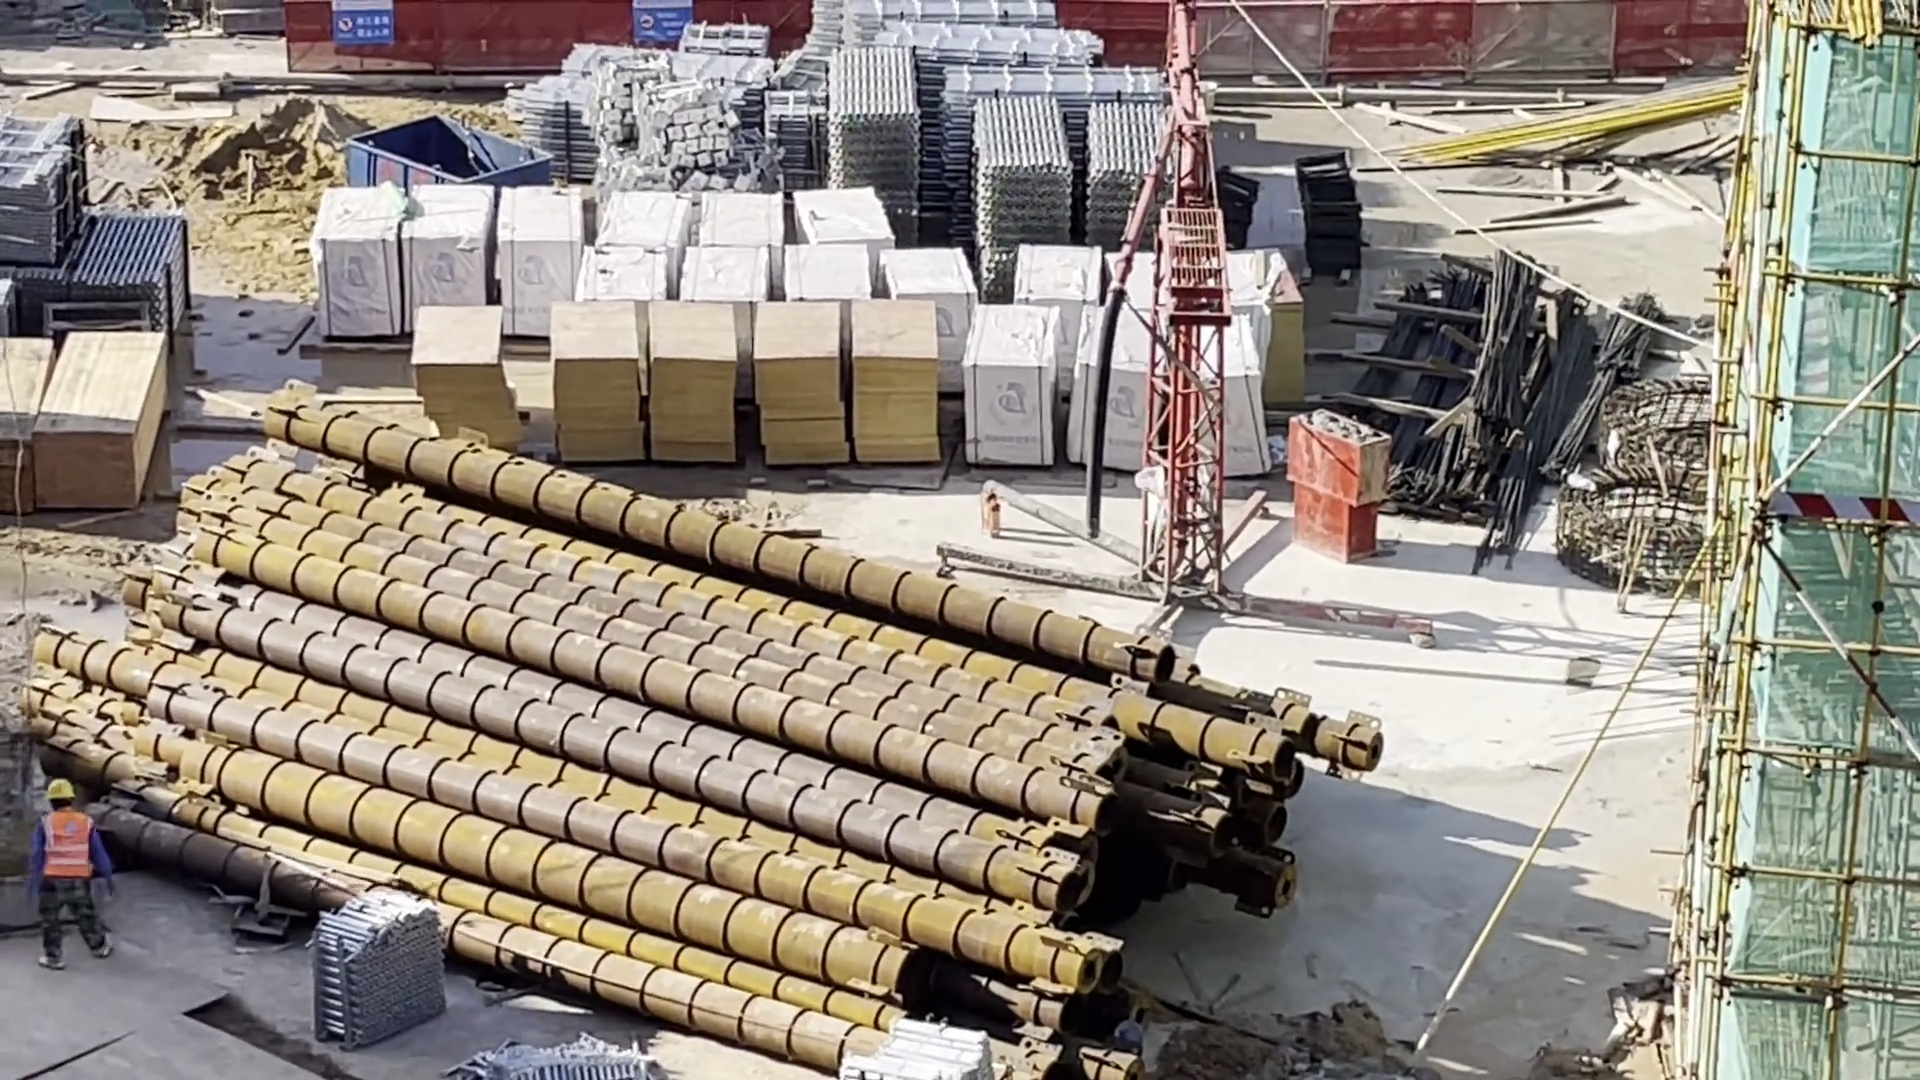board: (740, 276, 854, 485), (637, 276, 745, 480), (844, 274, 948, 483), (396, 294, 532, 448), (543, 285, 648, 474)
helmet: (43, 774, 84, 805)
hopper: (340, 112, 562, 193)
person: (25, 775, 132, 979)
scaffold: (299, 876, 454, 1053), (965, 86, 1083, 297), (824, 42, 926, 236), (80, 198, 210, 340), (1083, 88, 1170, 262)
vest: (25, 794, 95, 880)
